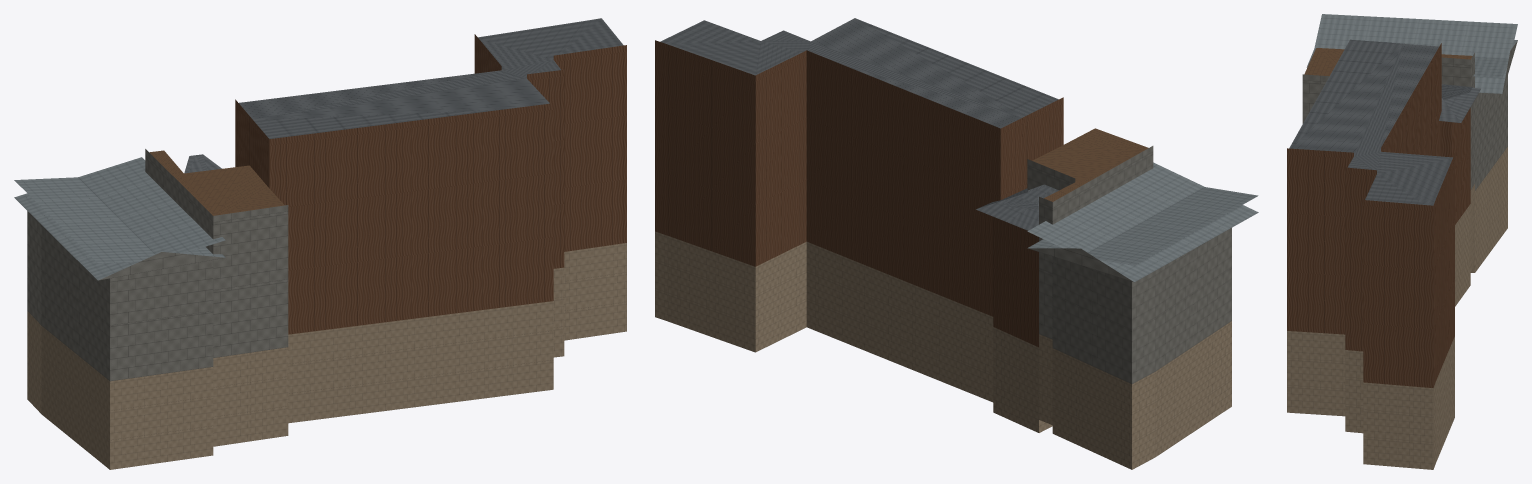
The model's file is bld_c12_30_393.gltf.
The picture shows the model from 3 angles, left to right: view 1: azimuth 30°, elevation 25°; view 2: azimuth 150°, elevation 25°; view 3: azimuth 270°, elevation 25°; orthographic projection. The views are drawn at different scales.
Visible parts, largest first — view 1: bld_c12_30_393; view 2: bld_c12_30_393; view 3: bld_c12_30_393.
Boxes of the visible parts, box(x1,y1,x2,y2) form: bld_c12_30_393: box(14, 18, 626, 469); bld_c12_30_393: box(655, 18, 1258, 469); bld_c12_30_393: box(1287, 14, 1517, 469).
Bounding box in the file's own units: 33.96 × 16.68 × 13.05.
Materials: 8 (8 with a texture image).
